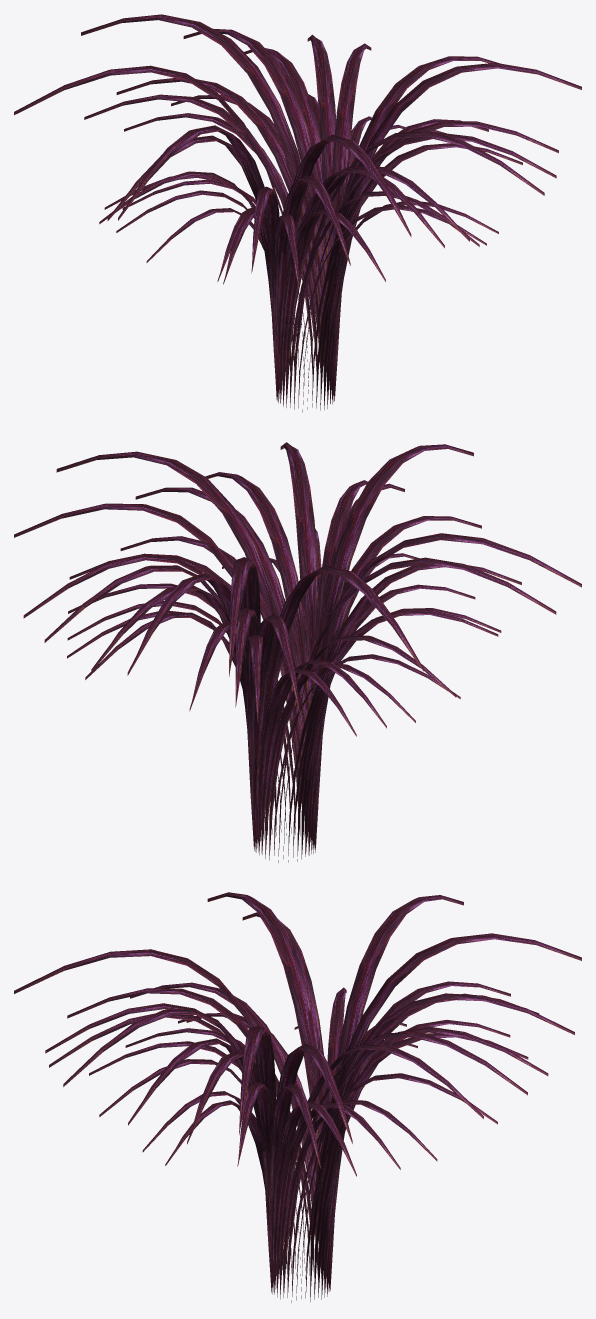
The model's file is finegrass_meadow_11.glb.
3 views of the same model, one above another, from view 1: azimuth 30°, elevation 25°; view 2: azimuth 150°, elevation 25°; view 3: azimuth 270°, elevation 25° (orthographic). The views are drawn at different scales.
Visible parts, largest first — view 1: export; view 2: export; view 3: export.
Boxes of the visible parts, x1=… form: export: x1=14, y1=14, x2=581, y2=412; export: x1=14, y1=442, x2=581, y2=862; export: x1=14, y1=892, x2=581, y2=1302.
Bounding box in the file's own units: 1.52 × 1.01 × 1.54.
1 material, 1 textured.
